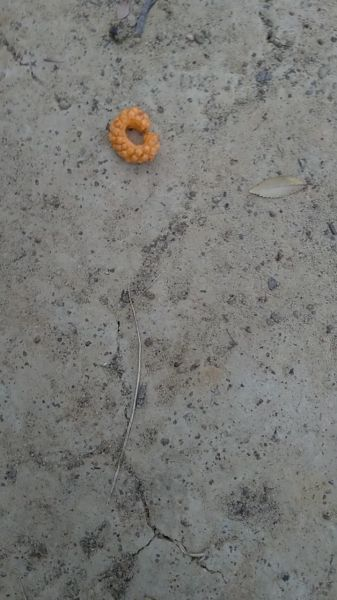eggs: (104, 92, 171, 170)
